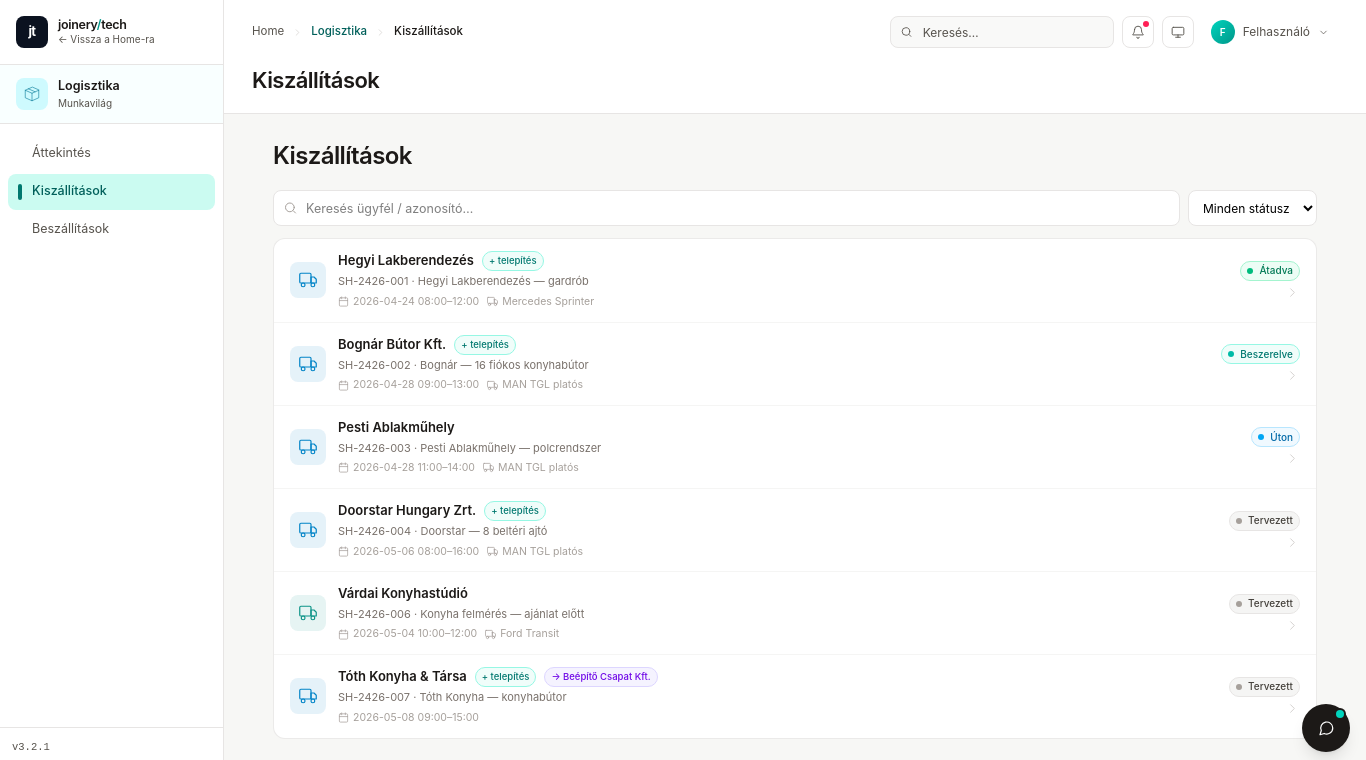
Scenario: LogisticsPage › clicking shipment opens detail SlideOver
Click the text "Bognár Bútor Kft." at [392, 345], box [338,335,446,354]
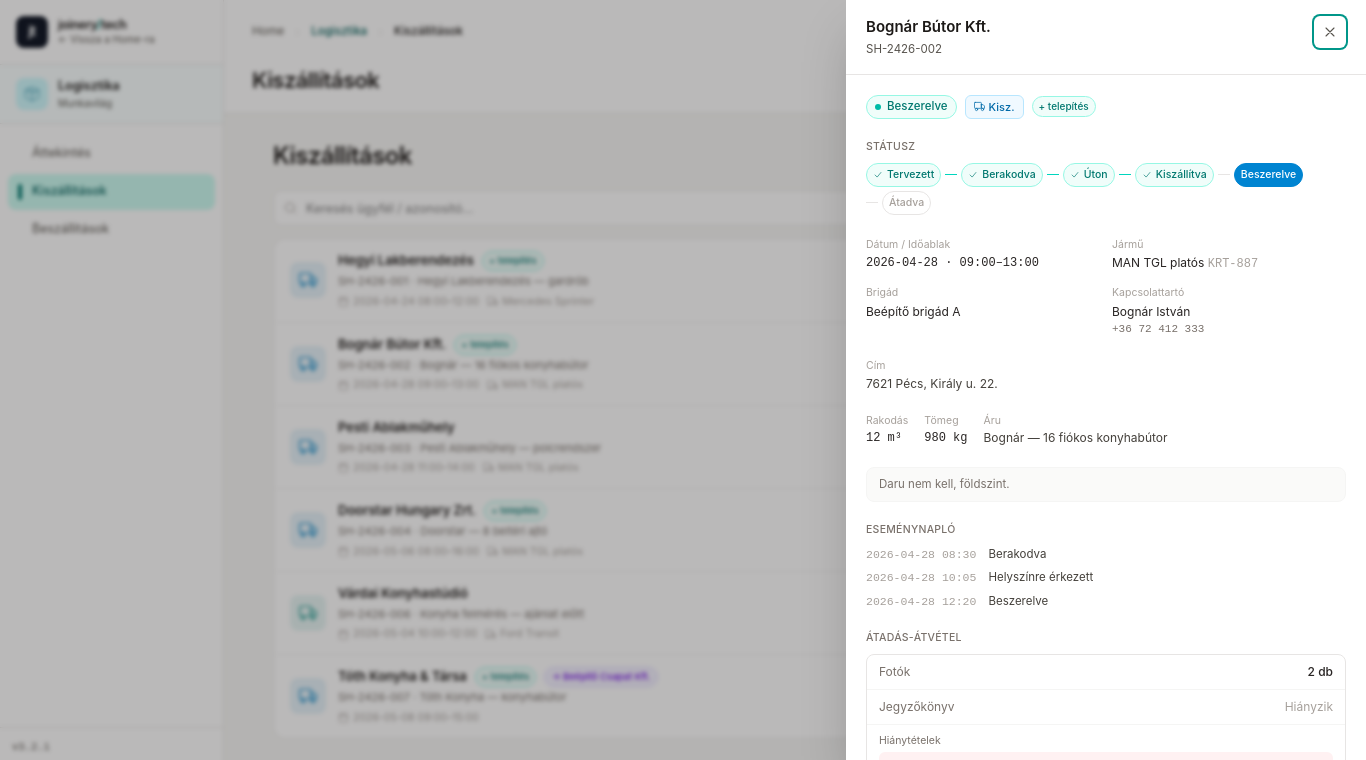
expect the text "SH-2426-002" is shown: met, box [866,42,942,56]
